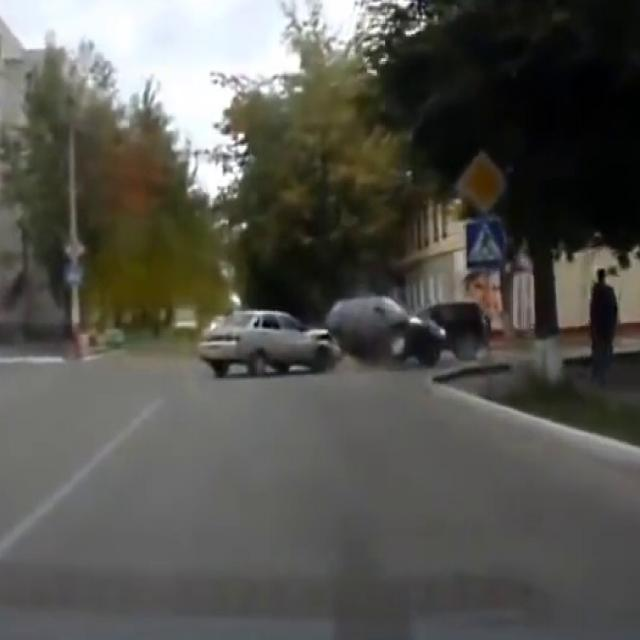accident: (189, 293, 438, 397)
